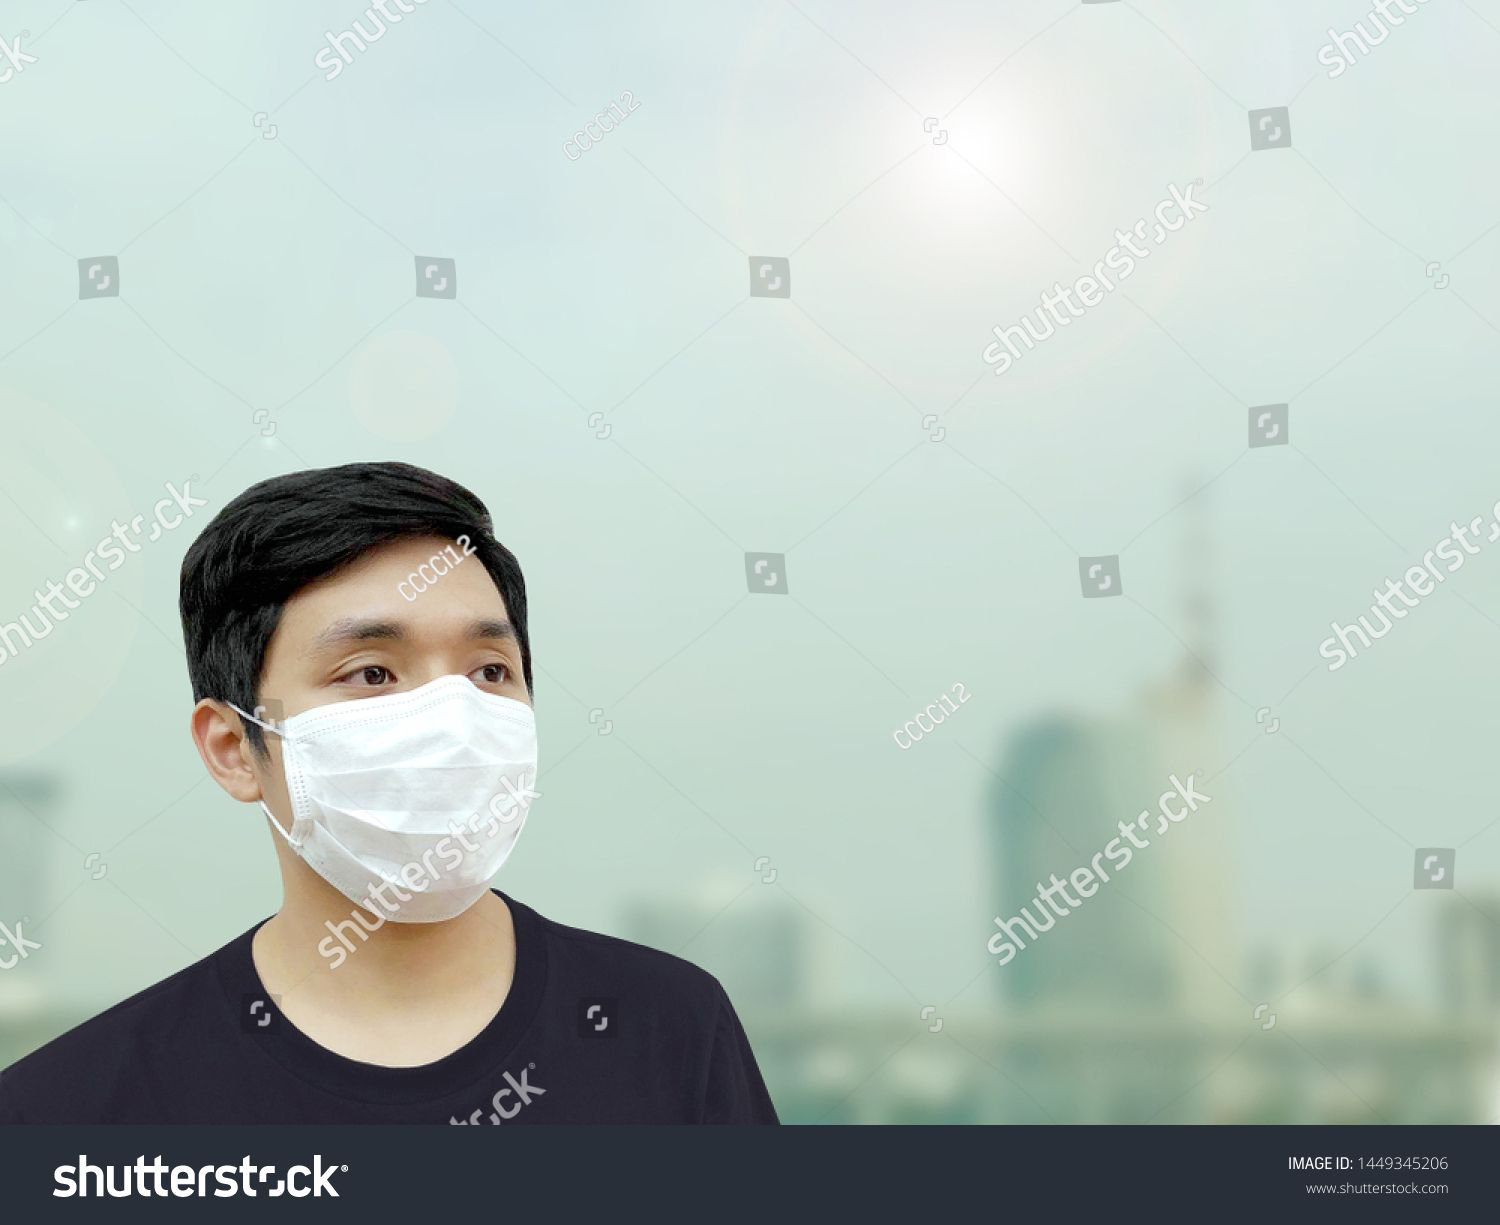mask: (153, 443, 614, 935)
